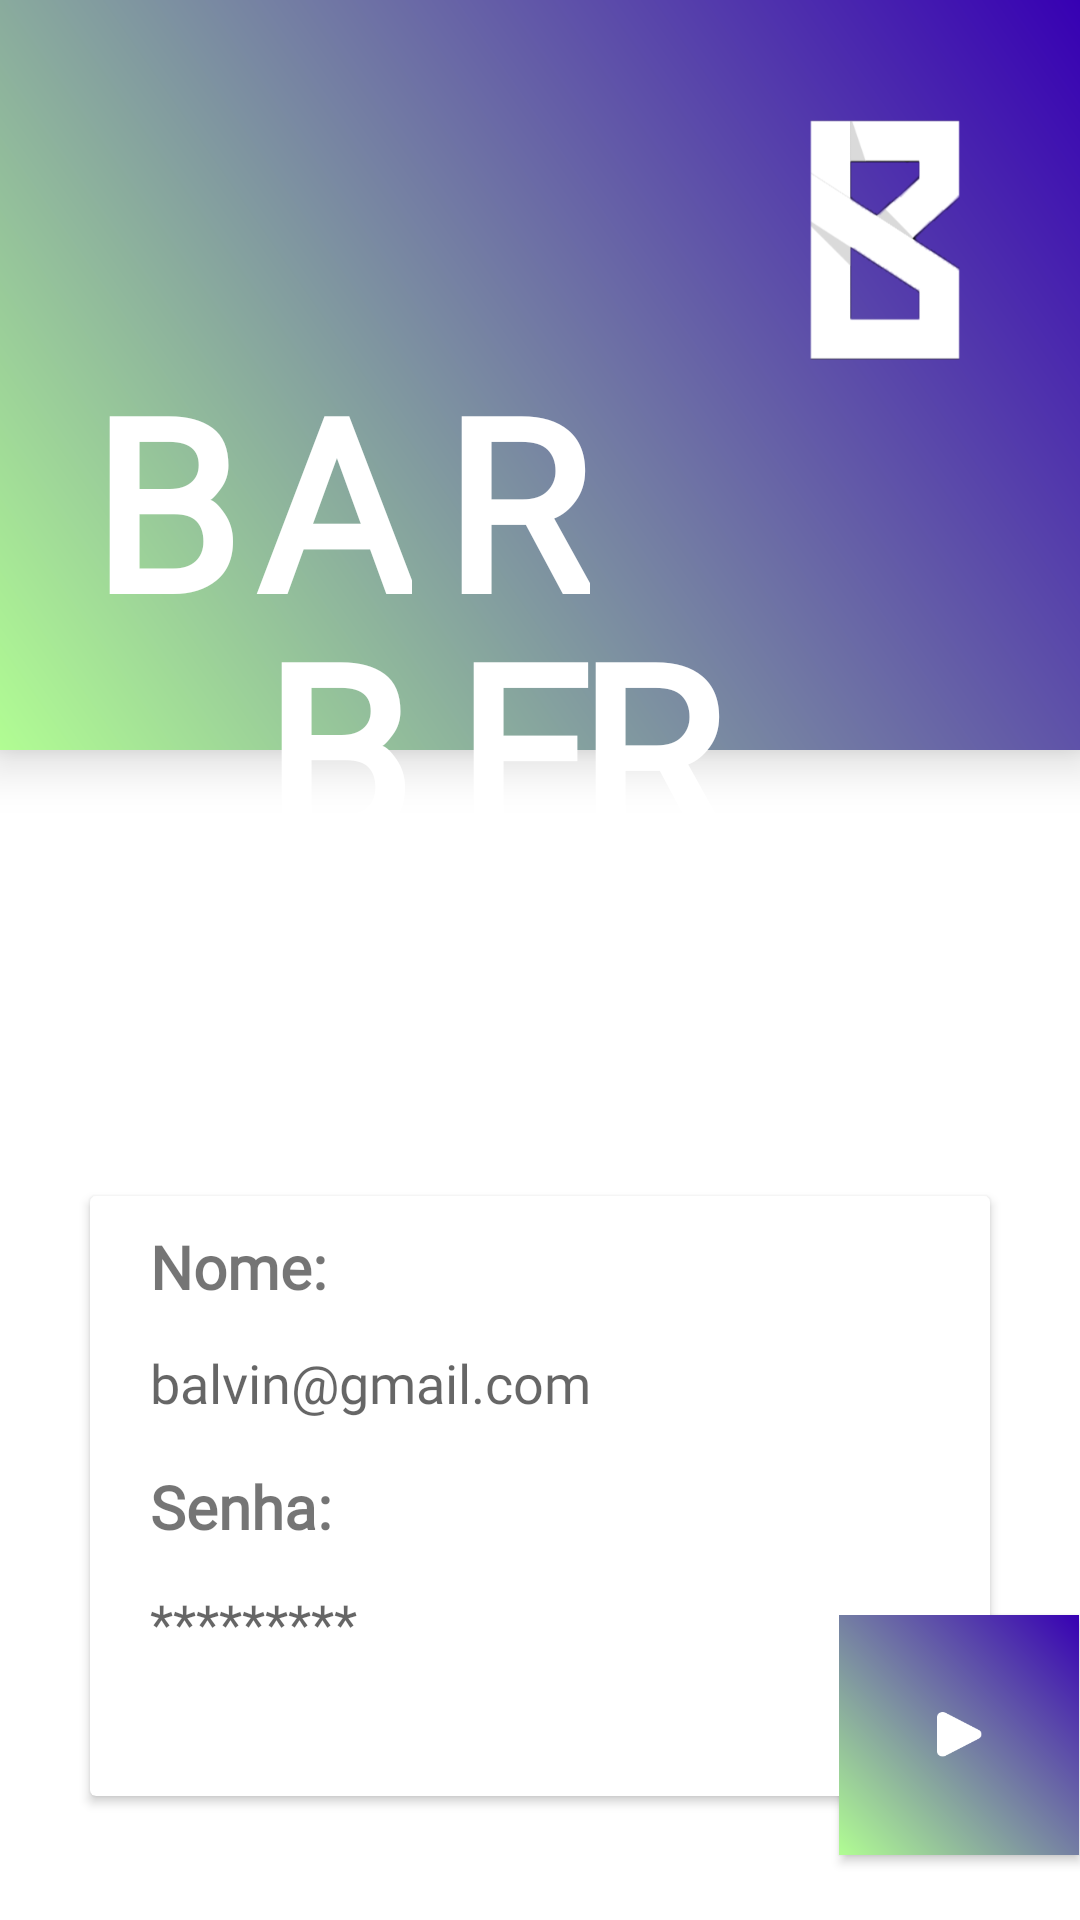

Icons on this 1080*1920 Android screen, each with the point to tap as (x,y):
play: (959,1734)
